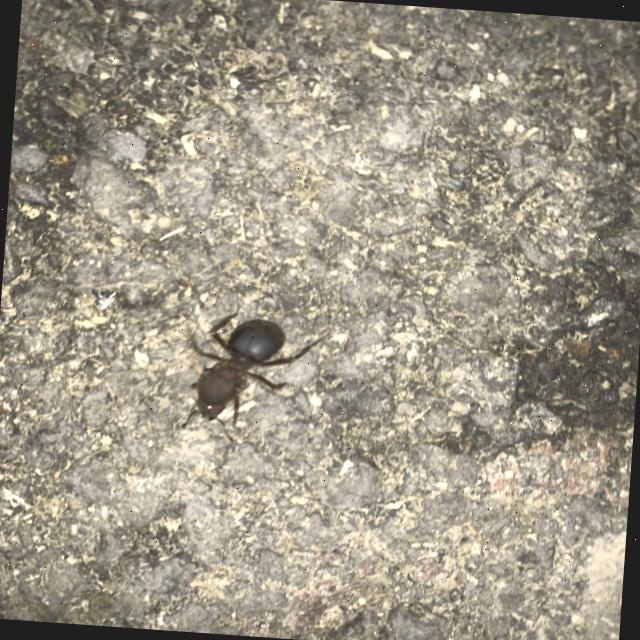Alive-Female-Dealate: (180, 300, 326, 448)
